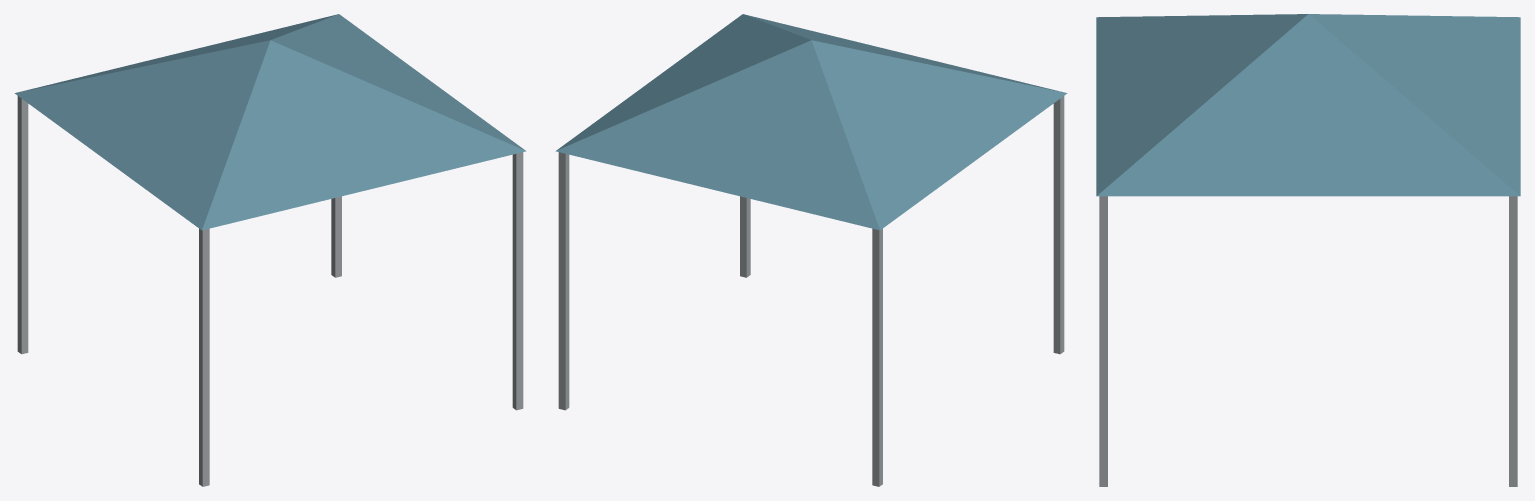
File: endurance-and-gt-paddock-campsite-gazebo-52bc263d.glb
3 renders of one model, left to right at view 1: azimuth 30°, elevation 25°; view 2: azimuth 150°, elevation 25°; view 3: azimuth 270°, elevation 25°, orthographic. The views are drawn at different scales.
Visible parts, largest first — view 1: campsite-gazebo; view 2: campsite-gazebo; view 3: campsite-gazebo.
Boxes of the visible parts, x1,y1,x2,y2 form: campsite-gazebo: (14,14,526,486); campsite-gazebo: (555,14,1067,486); campsite-gazebo: (1096,14,1520,486).
Size of the model in its own units: 2.9 by 2.9 by 2.9.
